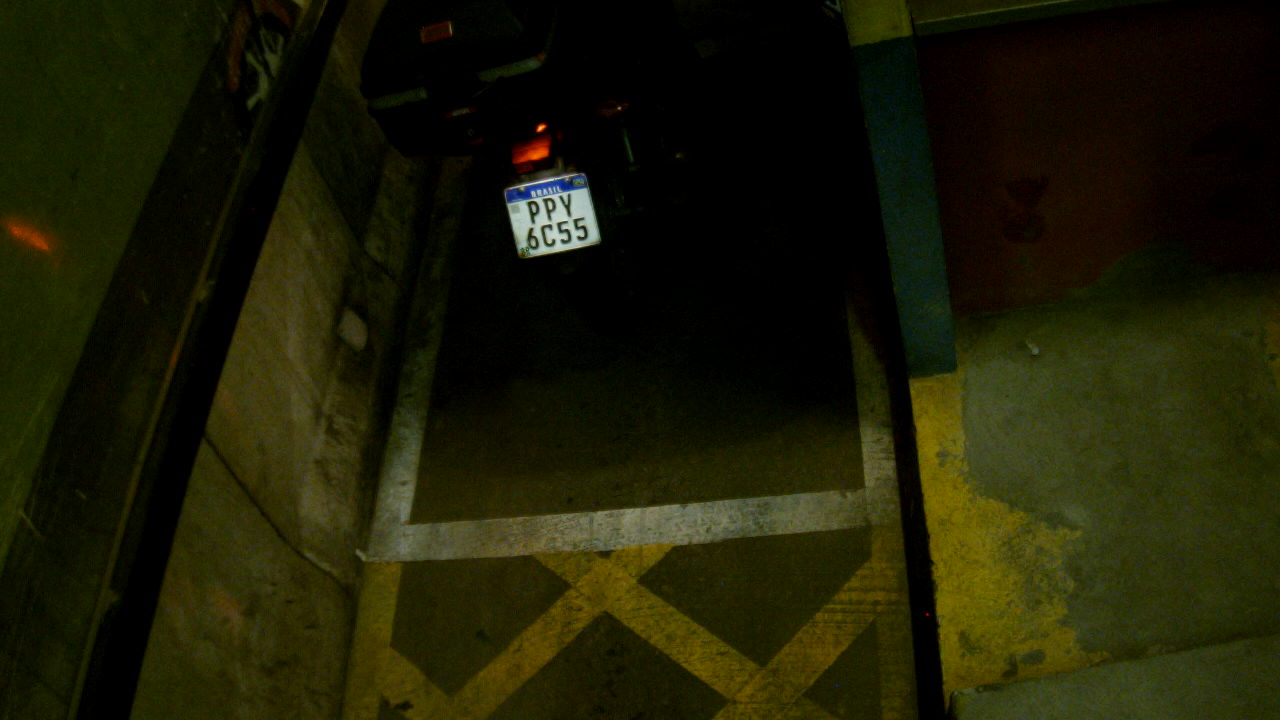placa: (503, 171, 603, 260)
